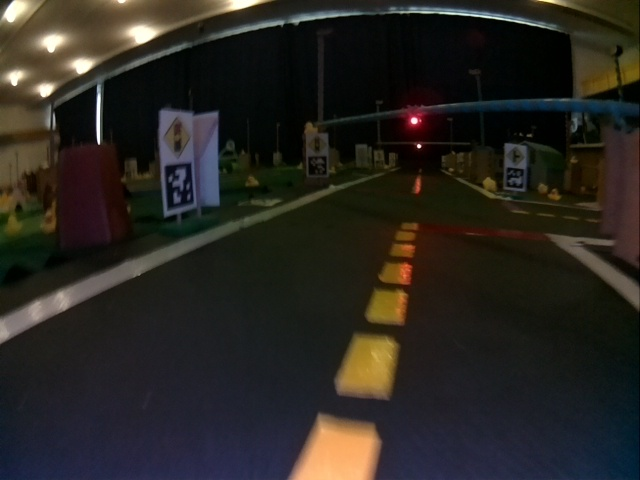Duckie: (4, 215, 22, 235), (40, 212, 54, 231), (304, 122, 318, 133), (549, 189, 560, 199), (484, 180, 495, 190), (247, 176, 259, 185), (539, 183, 547, 192)
Intersection sign: (506, 146, 524, 165)
QR code: (164, 163, 194, 210), (307, 156, 326, 176), (505, 167, 523, 187), (241, 198, 280, 206)
Signal sign: (163, 116, 188, 157), (310, 136, 326, 152)
Traffic light: (409, 106, 421, 128), (415, 142, 423, 150)
